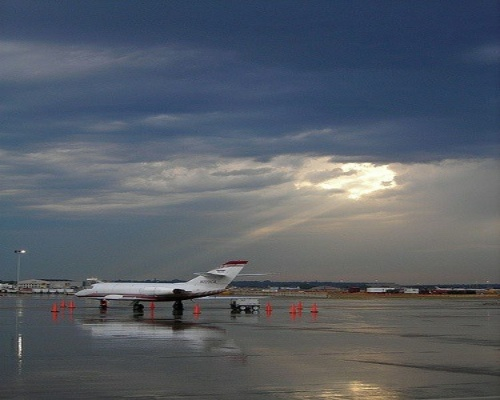plane: (67, 261, 248, 315)
